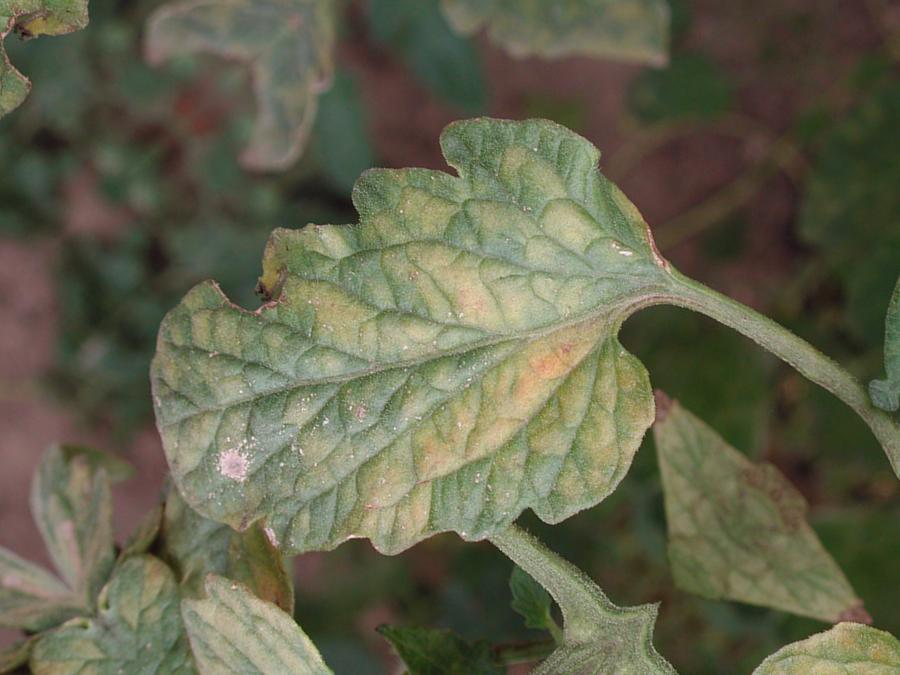Tomato mold leaf: (55, 2, 777, 675), (134, 527, 374, 675)
